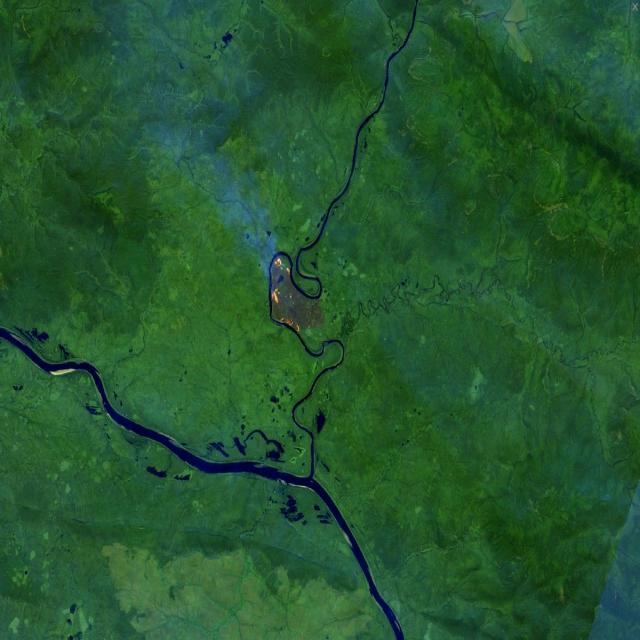fire: (263, 244, 325, 346)
